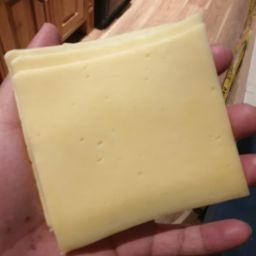Cheddar cheese: (7, 29, 256, 256), (20, 143, 251, 253), (3, 6, 217, 118), (4, 38, 101, 256)
